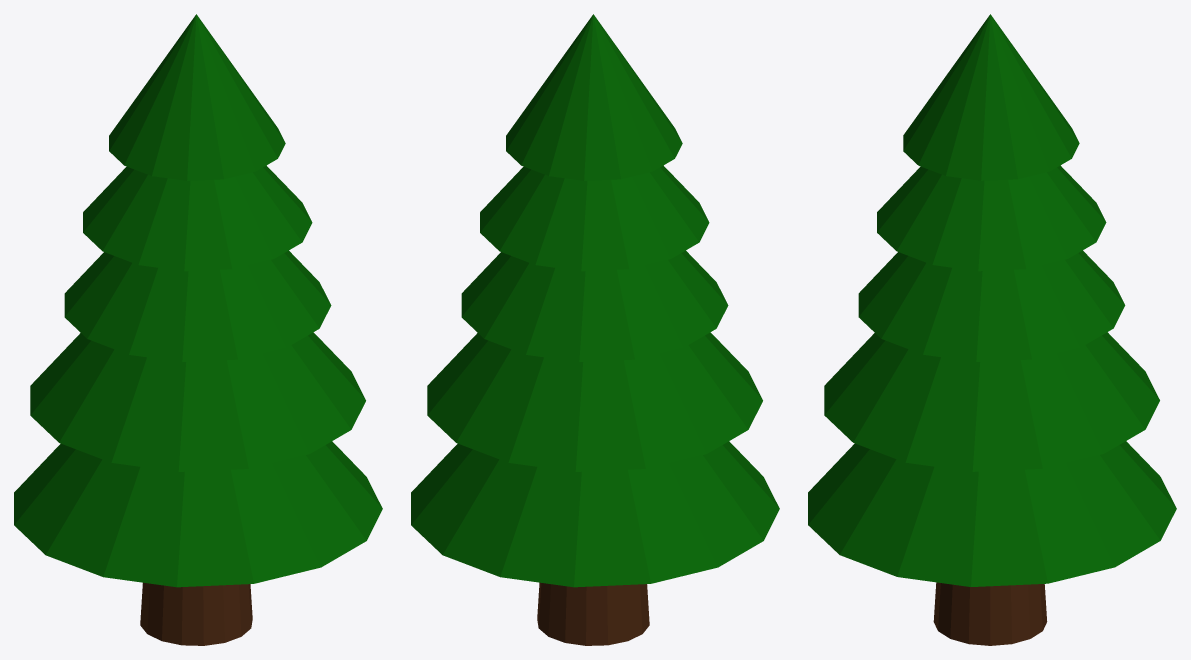
The model's file is Tree.fbx.
The picture shows the model from 3 angles, left to right: view 1: azimuth 30°, elevation 25°; view 2: azimuth 150°, elevation 25°; view 3: azimuth 270°, elevation 25°; orthographic projection.
Visible parts, largest first — view 1: Cone; view 2: Cone; view 3: Cone.
Part boxes in pixels (left/top/right/bottom): Cone: left=14, top=14, right=382, bottom=645; Cone: left=411, top=14, right=779, bottom=645; Cone: left=808, top=14, right=1176, bottom=645.
Size of the model in its own units: 104 by 188 by 103.
